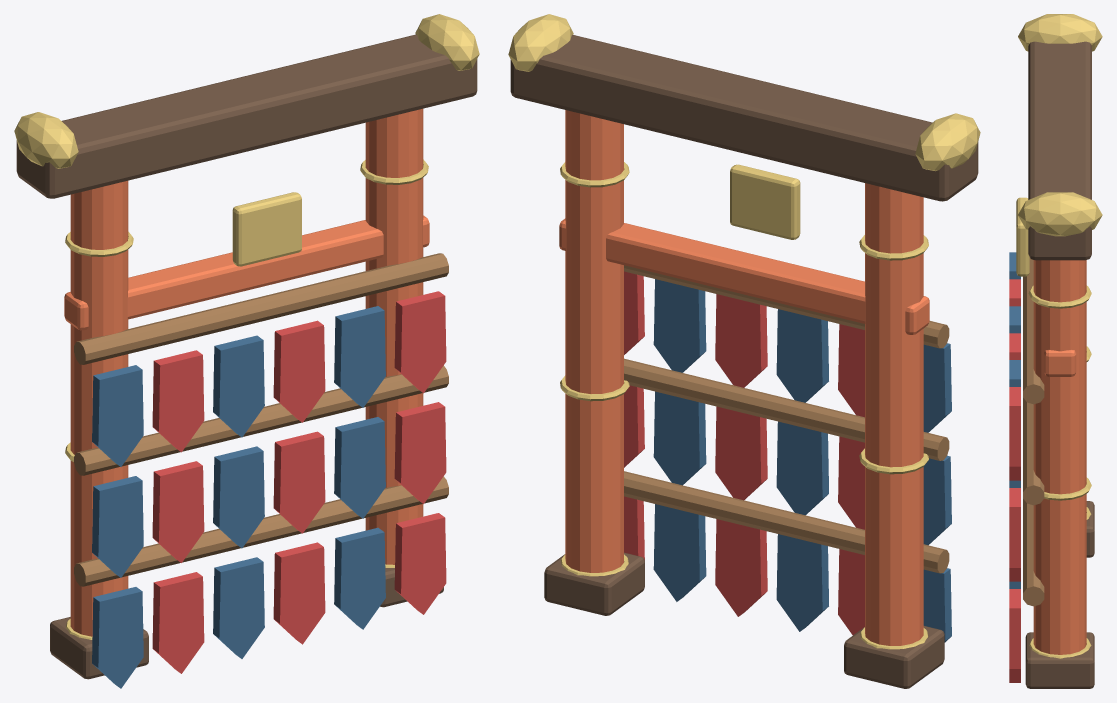
The model's file is ritual_omamori_rack.glb.
3 renders of one model, left to right at view 1: azimuth 30°, elevation 25°; view 2: azimuth 150°, elevation 25°; view 3: azimuth 270°, elevation 25°, orthographic. The views are drawn at different scales.
Parts seen in each view (by area): view 1: Shrine hanging offerings rack kasagi upper crossbeam, Shrine hanging offerings rack lacquered main pillar, Shrine hanging offerings rack lacquered main pillar.001, Shrine hanging offerings rack nuki secondary beam, Horizontal offering rack.002, Horizontal offering rack, Horizontal offering rack.001, Individual omamori pouch.001, Individual omamori pouch.007, Individual omamori pouch.009, Individual omamori pouch.011, Individual omamori pouch.013 (+17 smaller); view 2: Shrine hanging offerings rack kasagi upper crossbeam, Shrine hanging offerings rack lacquered main pillar, Shrine hanging offerings rack lacquered main pillar.001, Shrine hanging offerings rack nuki secondary beam, Horizontal offering rack, Horizontal offering rack.001, Shrine hanging offerings rack traditional central plate, Individual omamori pouch.003, Individual omamori pouch.004, Individual omamori pouch.002, Individual omamori pouch.009, Individual omamori pouch.014 (+18 smaller); view 3: Shrine hanging offerings rack lacquered main pillar.001, Shrine hanging offerings rack kasagi upper crossbeam, Shrine hanging offerings rack finial gold.001, Shrine hanging offerings rack black foot.001, Shrine hanging offerings rack finial gold, Horizontal offering rack.002, Horizontal offering rack, Horizontal offering rack.001, Shrine hanging offerings rack lacquered main pillar binding. (×3), Individual omamori pouch.005, Individual omamori pouch.011, Individual omamori pouch.017 (+8 smaller).
Boxes of the visible parts, x1=… form: Shrine hanging offerings rack kasagi upper crossbeam: x1=16, y1=34, x2=477, y2=198; Shrine hanging offerings rack lacquered main pillar: x1=70, y1=180, x2=128, y2=636; Shrine hanging offerings rack lacquered main pillar.001: x1=365, y1=108, x2=423, y2=564; Shrine hanging offerings rack nuki secondary beam: x1=64, y1=215, x2=429, y2=330; Horizontal offering rack.002: x1=74, y1=253, x2=448, y2=364; Horizontal offering rack: x1=74, y1=476, x2=448, y2=586; Horizontal offering rack.001: x1=74, y1=365, x2=448, y2=475; Individual omamori pouch.001: x1=152, y1=572, x2=204, y2=673; Individual omamori pouch.007: x1=152, y1=461, x2=204, y2=562; Individual omamori pouch.009: x1=273, y1=431, x2=325, y2=533; Individual omamori pouch.011: x1=394, y1=402, x2=446, y2=503; Individual omamori pouch.013: x1=152, y1=350, x2=204, y2=452; Shrine hanging offerings rack kasagi upper crossbeam: x1=510, y1=35, x2=978, y2=201; Shrine hanging offerings rack lacquered main pillar: x1=865, y1=183, x2=923, y2=645; Shrine hanging offerings rack lacquered main pillar.001: x1=565, y1=110, x2=623, y2=572; Shrine hanging offerings rack nuki secondary beam: x1=559, y1=218, x2=929, y2=334; Horizontal offering rack: x1=624, y1=471, x2=949, y2=573; Horizontal offering rack.001: x1=624, y1=358, x2=949, y2=460; Shrine hanging offerings rack traditional central plate: x1=730, y1=164, x2=800, y2=239; Individual omamori pouch.003: x1=715, y1=519, x2=767, y2=616; Individual omamori pouch.004: x1=653, y1=504, x2=706, y2=601; Individual omamori pouch.002: x1=776, y1=534, x2=828, y2=631; Individual omamori pouch.009: x1=715, y1=406, x2=767, y2=500; Individual omamori pouch.014: x1=776, y1=309, x2=828, y2=402; Shrine hanging offerings rack lacquered main pillar.001: x1=1033, y1=260, x2=1086, y2=654; Shrine hanging offerings rack kasagi upper crossbeam: x1=1028, y1=41, x2=1091, y2=260; Shrine hanging offerings rack finial gold.001: x1=1018, y1=192, x2=1102, y2=236; Shrine hanging offerings rack black foot.001: x1=1025, y1=632, x2=1094, y2=688; Shrine hanging offerings rack finial gold: x1=1018, y1=14, x2=1102, y2=51; Horizontal offering rack.002: x1=1023, y1=257, x2=1044, y2=404; Horizontal offering rack: x1=1023, y1=499, x2=1044, y2=606; Horizontal offering rack.001: x1=1023, y1=398, x2=1044, y2=505; Shrine hanging offerings rack lacquered main pillar binding. (×3): x1=1028, y1=285, x2=1091, y2=658; Individual omamori pouch.005: x1=1009, y1=589, x2=1020, y2=682; Individual omamori pouch.011: x1=1009, y1=488, x2=1020, y2=581; Individual omamori pouch.017: x1=1009, y1=387, x2=1020, y2=480.
Size of the model in its own units: 1.61 by 1.95 by 0.3223.
